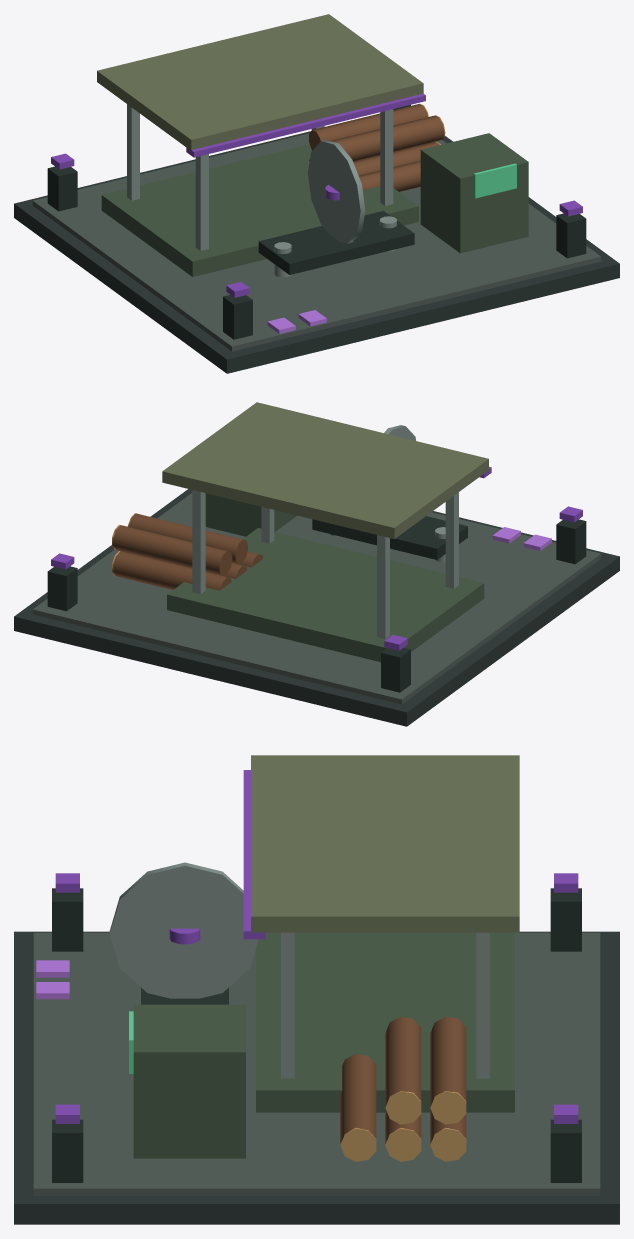
File: timberline_l02.glb
3 renders of one model, top to bottom at view 1: azimuth 30°, elevation 25°; view 2: azimuth 150°, elevation 25°; view 3: azimuth 270°, elevation 25°, orthographic. The views are drawn at different scales.
Parts seen in each view (by area): view 1: timberline_l02; view 2: timberline_l02; view 3: timberline_l02.
Boxes of the visible parts, left/top/right/bottom form: timberline_l02: left=14, top=14, right=619, bottom=373; timberline_l02: left=14, top=402, right=619, bottom=726; timberline_l02: left=14, top=755, right=619, bottom=1224.
Size of the model in its own units: 6.6 by 2.59 by 6.2.
